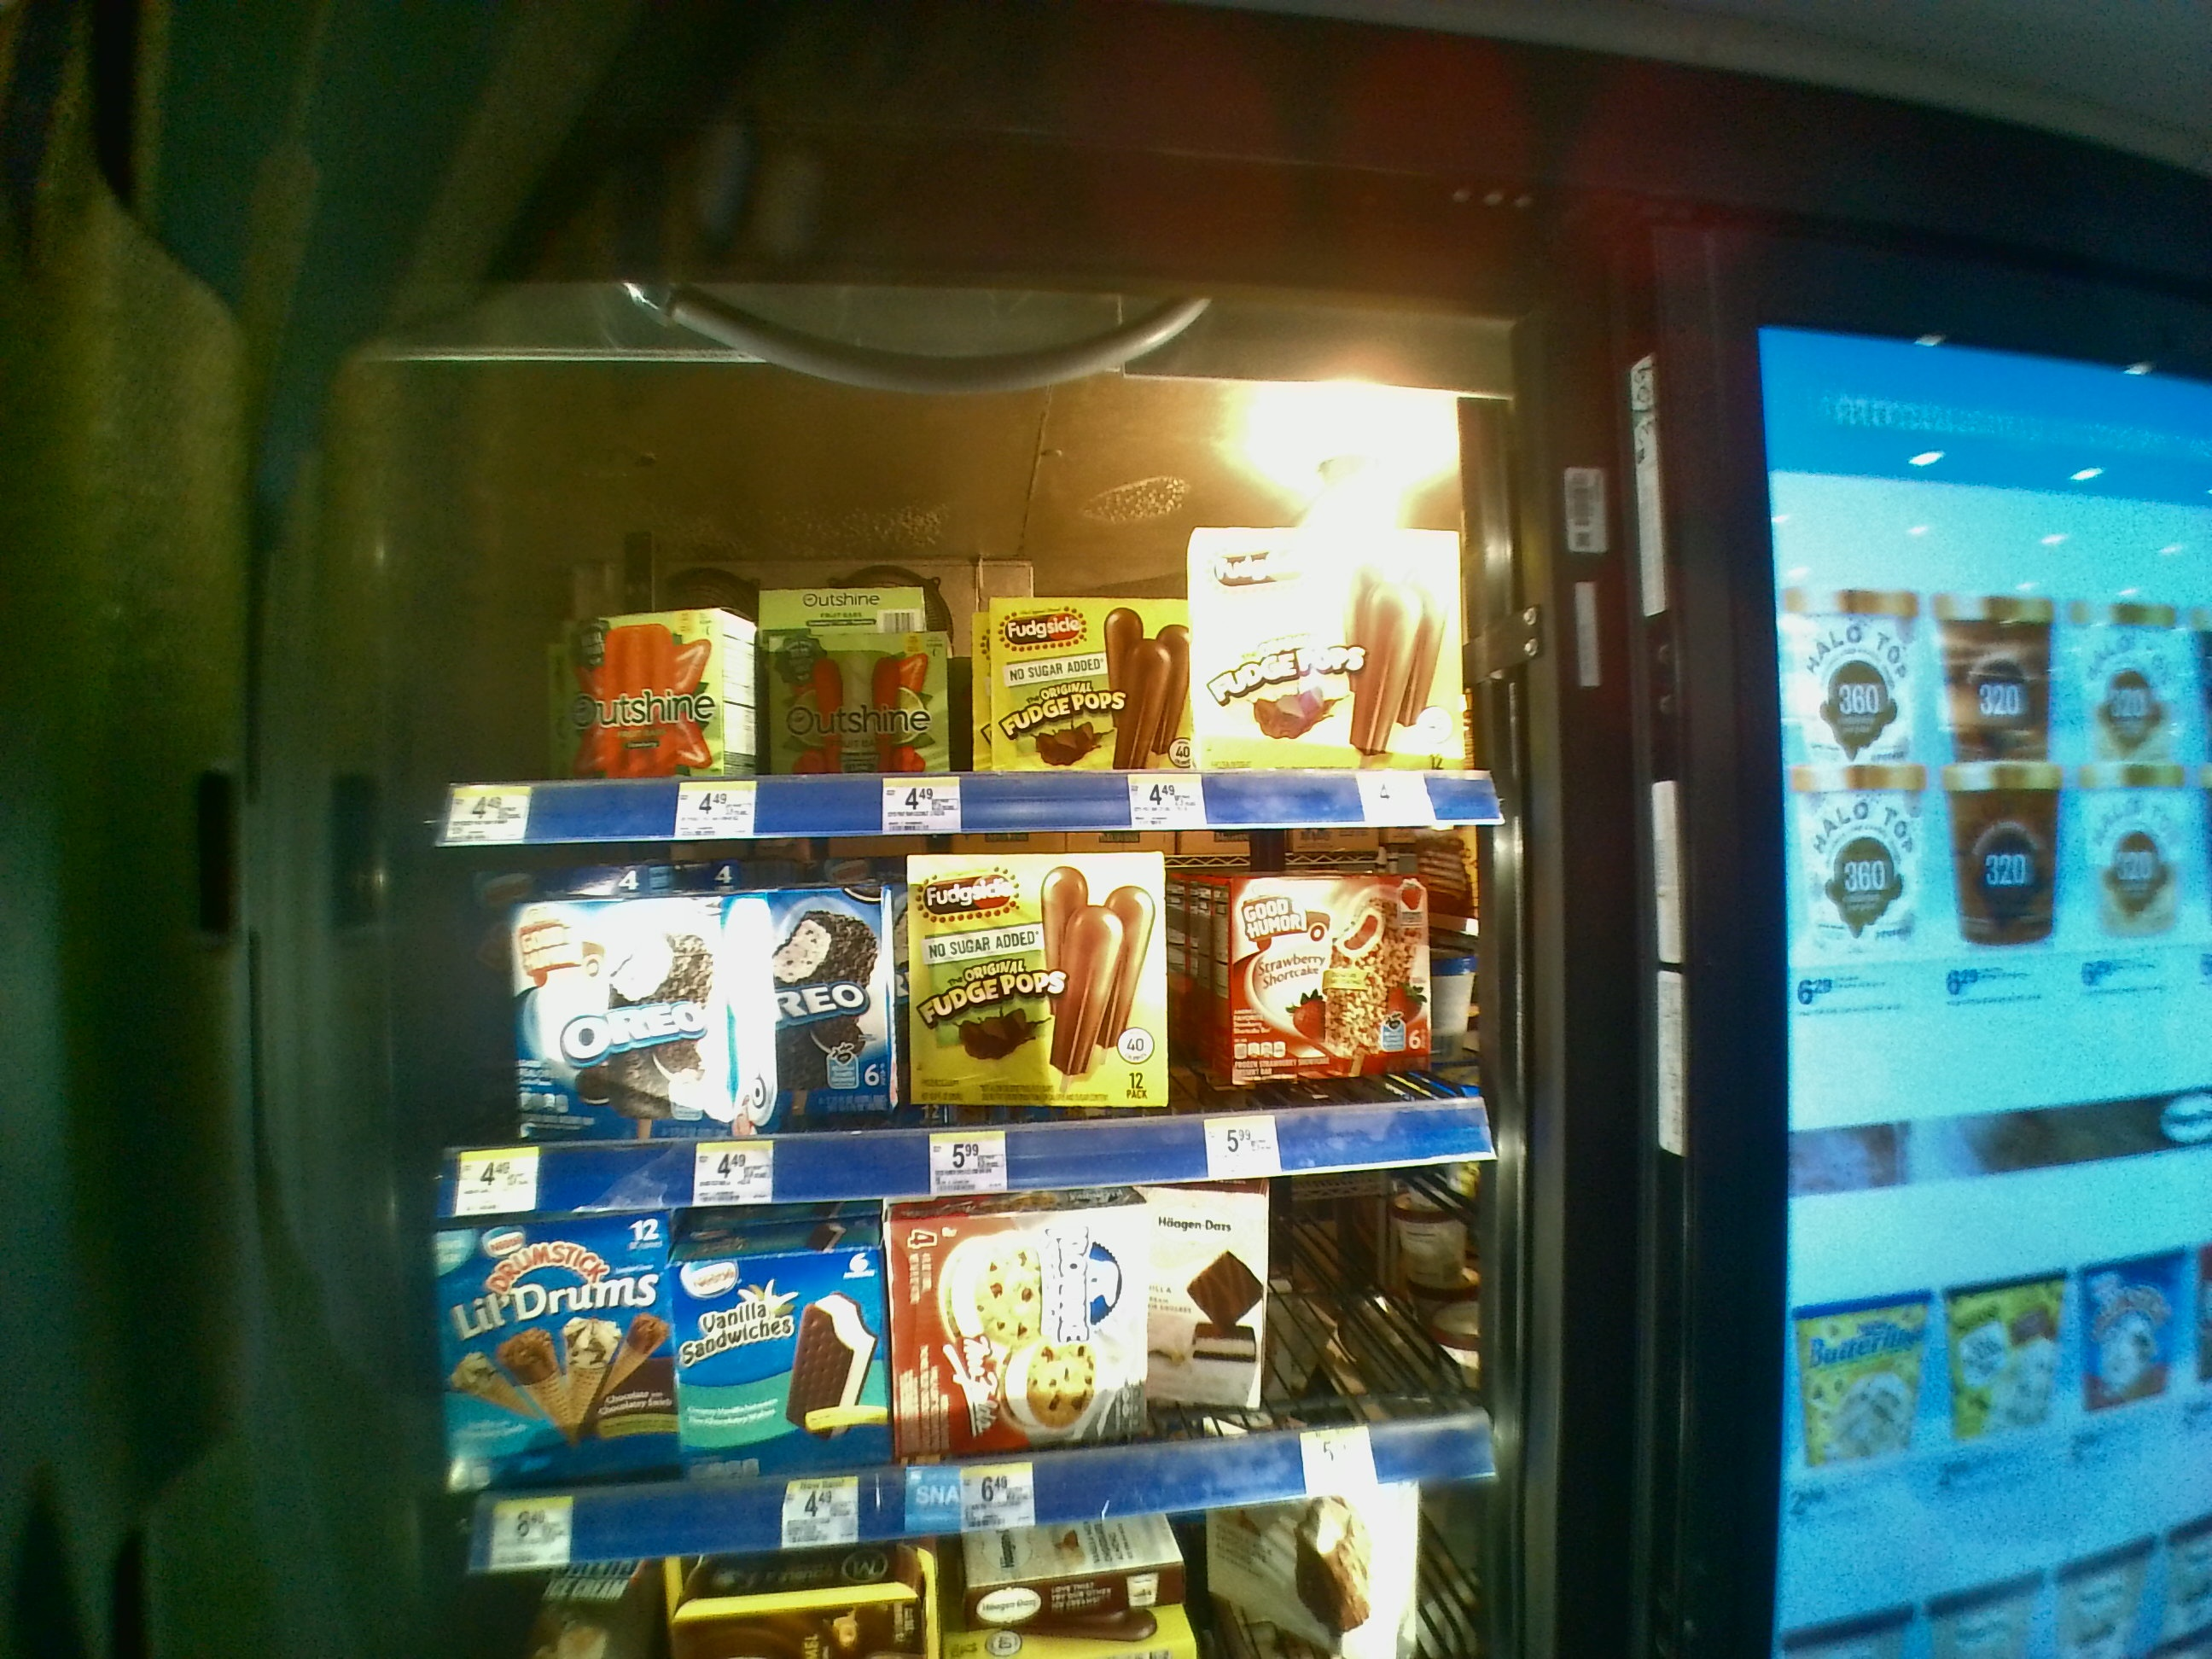shelf: (421, 420, 1508, 847), (439, 1213, 1514, 1588), (432, 864, 1505, 1199)
